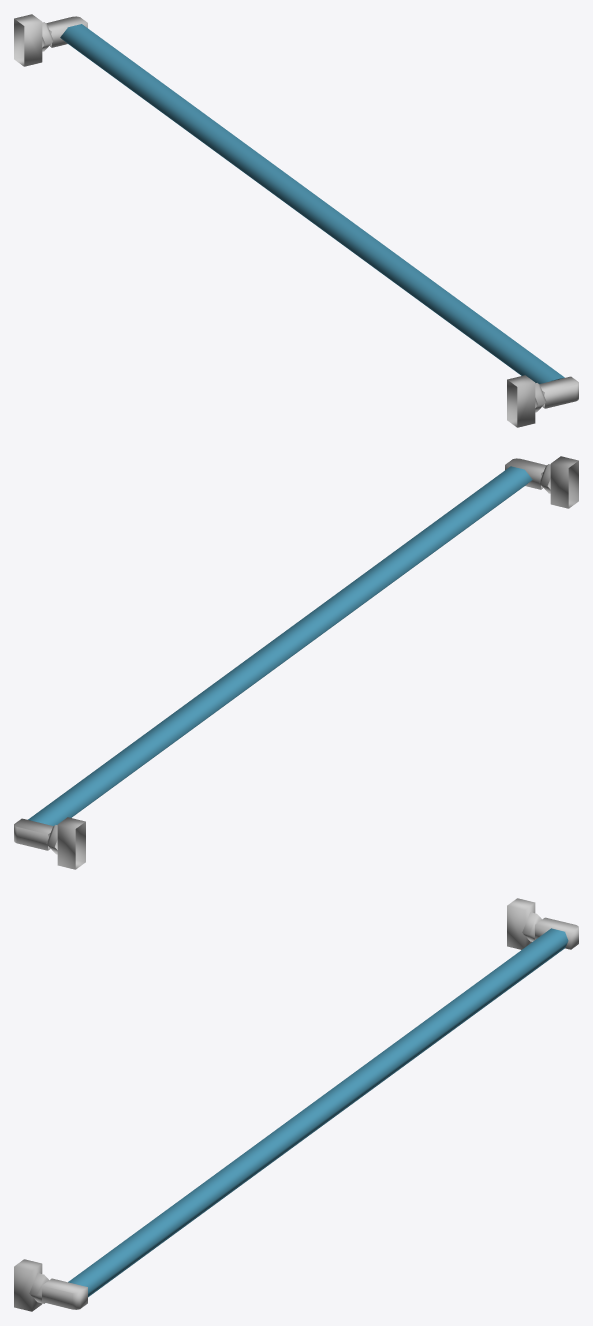
Rendered from Handrail_41_5.dae.
3 views of the same model, one above another, from view 1: azimuth 30°, elevation 25°; view 2: azimuth 150°, elevation 25°; view 3: azimuth 330°, elevation 25° (orthographic).
Visible parts, largest first — view 1: Handrail_41_5; view 2: Handrail_41_5; view 3: Handrail_41_5.
Part boxes in pixels (x1,y1,x2,y2): Handrail_41_5: (14,14,578,427); Handrail_41_5: (14,456,578,869); Handrail_41_5: (14,898,578,1311).
Size of the model in its own units: 0.0757 by 1.05 by 0.0462.
